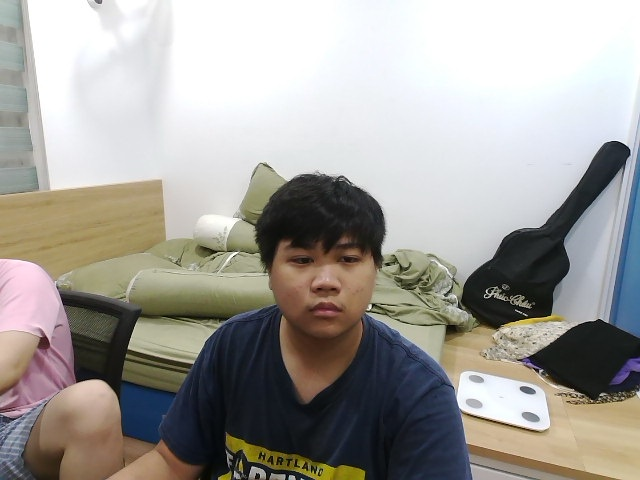face: (255, 172, 388, 342)
